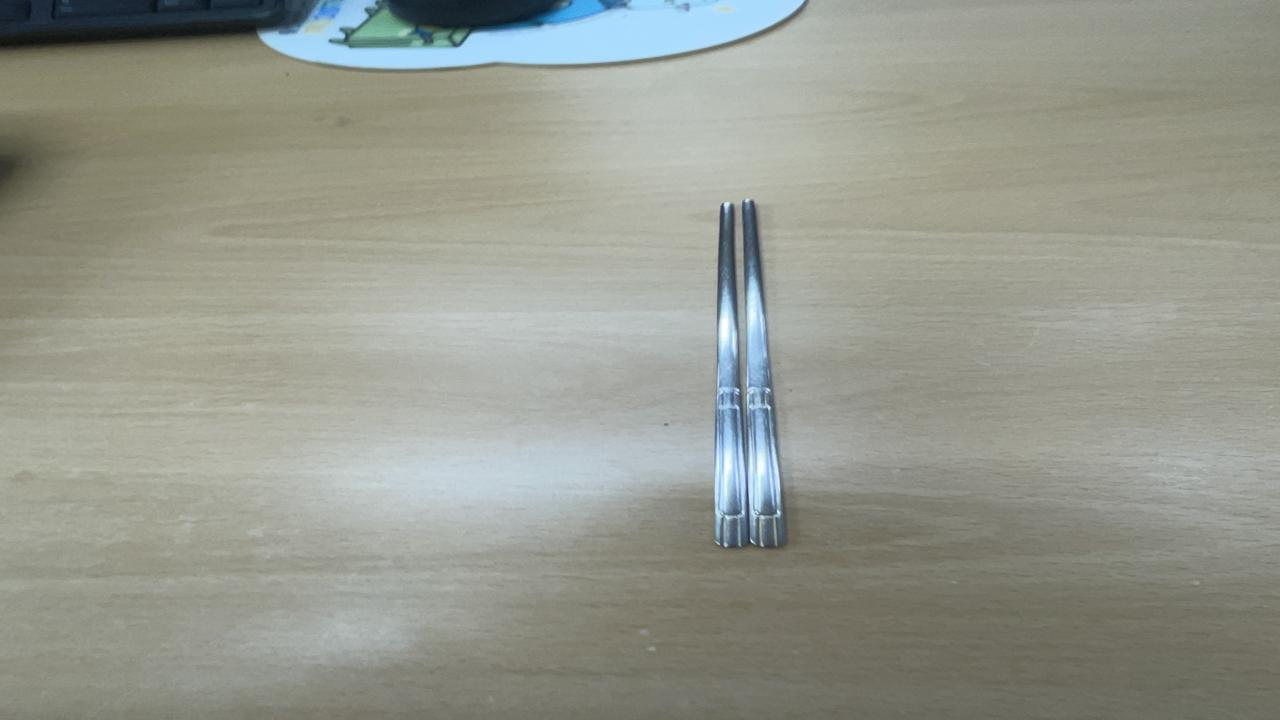chopstick: (714, 200, 788, 550)
